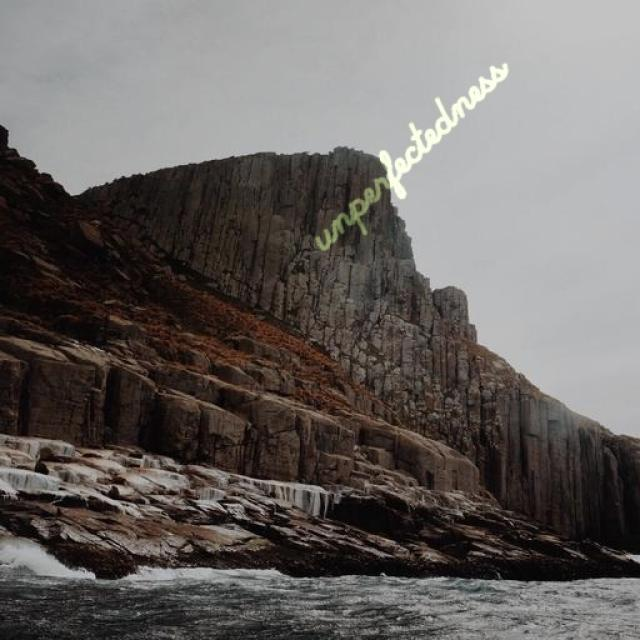watermark: (314, 37, 510, 256)
